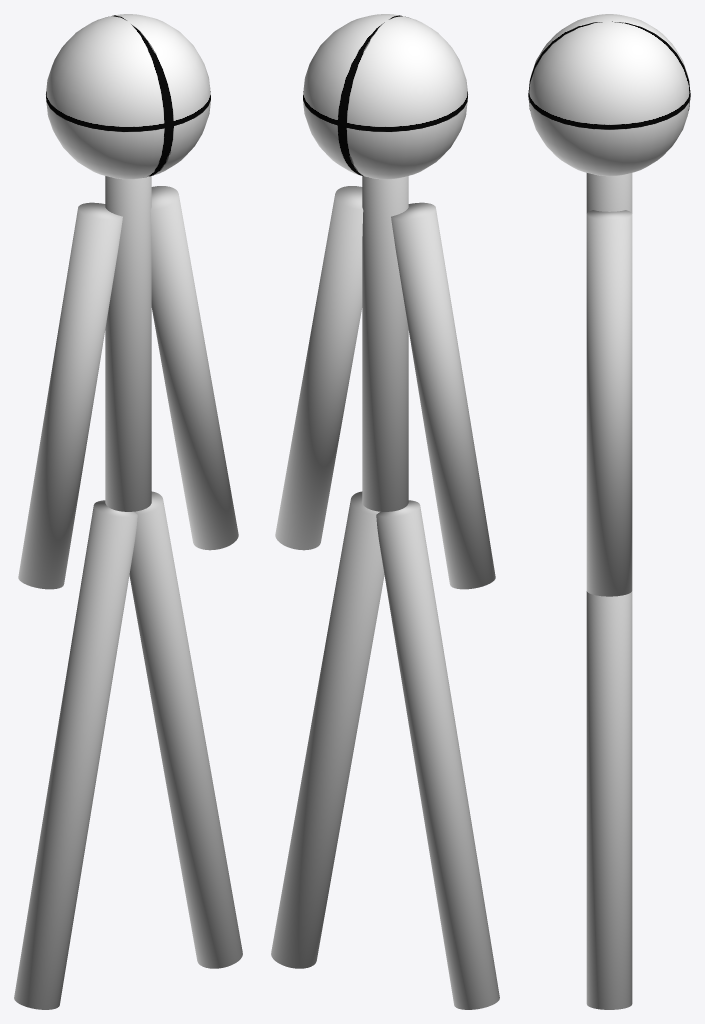
Rendered from man.glb.
The picture shows the model from 3 angles, left to right: view 1: azimuth 30°, elevation 25°; view 2: azimuth 150°, elevation 25°; view 3: azimuth 270°, elevation 25°; orthographic projection.
Parts seen in each view (by area): view 1: leg-right, head, leg-left, arm-left, arm-right, torso; view 2: leg-right, head, leg-left, arm-left, arm-right, torso; view 3: head, leg-left, arm-right, torso.
Boxes of the visible parts, <box> form: leg-right: <box>14,500,137,1009</box>; head: <box>46,14,210,179</box>; leg-left: <box>129,491,242,968</box>; arm-left: <box>18,202,122,589</box>; arm-right: <box>150,186,238,550</box>; torso: <box>105,176,151,511</box>; leg-right: <box>376,500,499,1009</box>; head: <box>303,14,467,179</box>; leg-left: <box>271,491,384,968</box>; arm-left: <box>391,202,495,589</box>; arm-right: <box>275,186,363,550</box>; torso: <box>362,176,408,511</box>; head: <box>528,14,690,176</box>; leg-left: <box>586,591,632,1009</box>; arm-right: <box>586,210,632,596</box>; torso: <box>586,173,632,213</box>.
Bounding box in the file's own units: 0.3879 × 1.6 × 0.25.
Materials: 2 (1 with a texture image).
